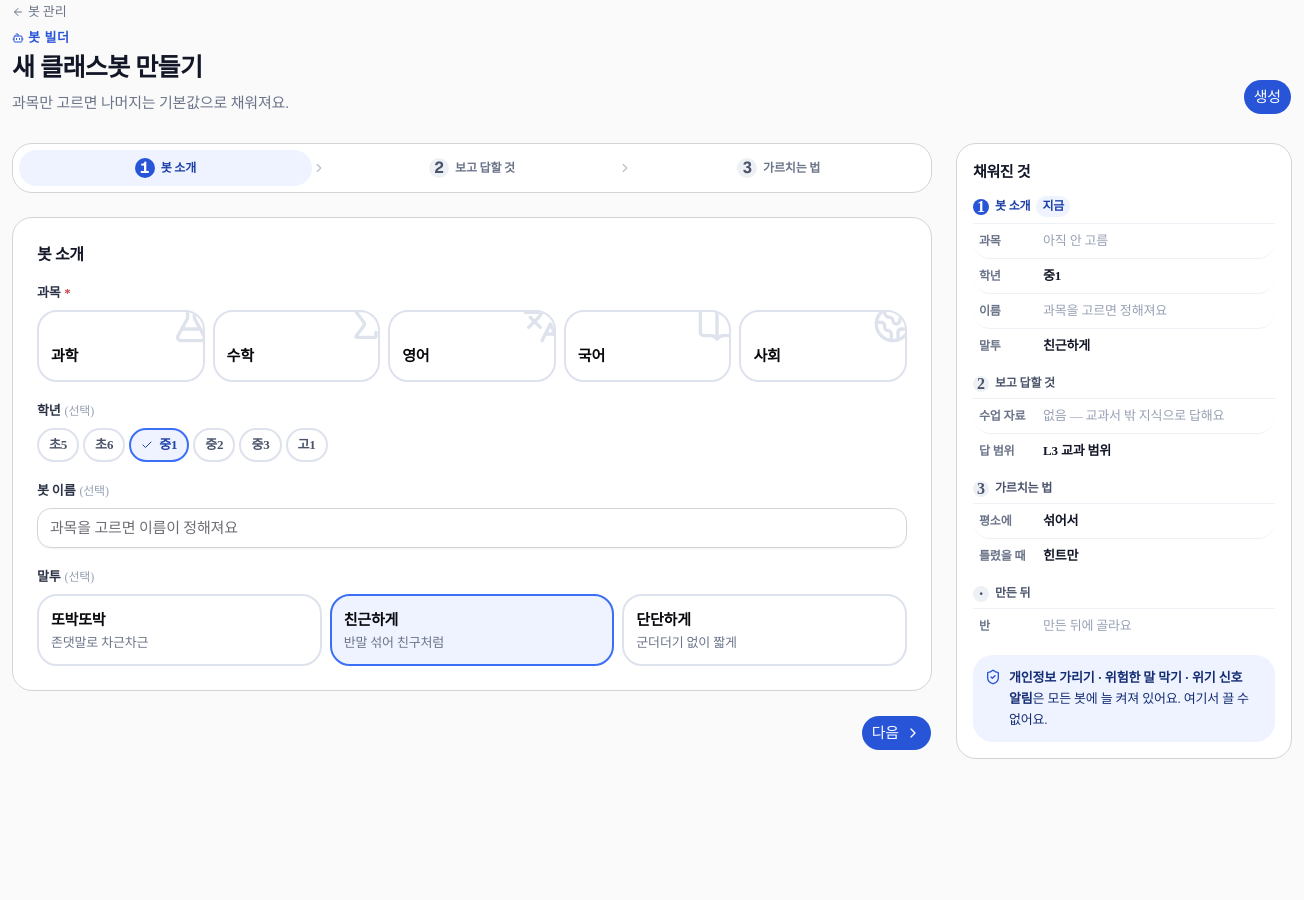
Test: 과목은 기본값이 없다 › 과목을 안 고르면 「생성」이 막히고 왜 막혔는지 말한다
This screenshot has width=1304, height=900.
Click the button with aria-label "채운 그대로 봇 생성하기" at (1267, 97), box [1243,79,1292,115]
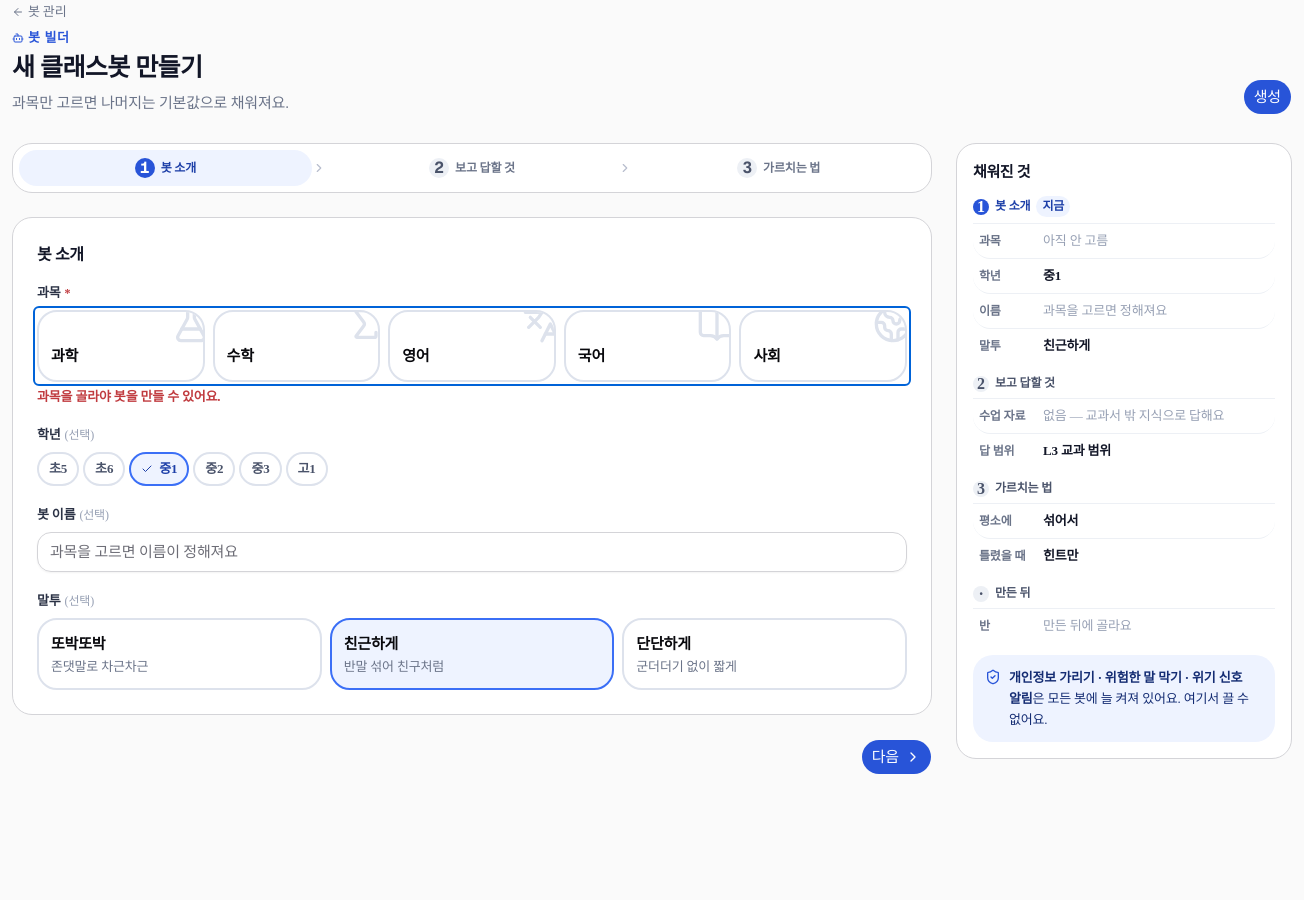
expect the heading "봇 소개" is shown: met, box [37,246,84,263]
expect the message shows "과목을 골라야 봇을 만들 수 있어요": met, box [37,389,220,404]
